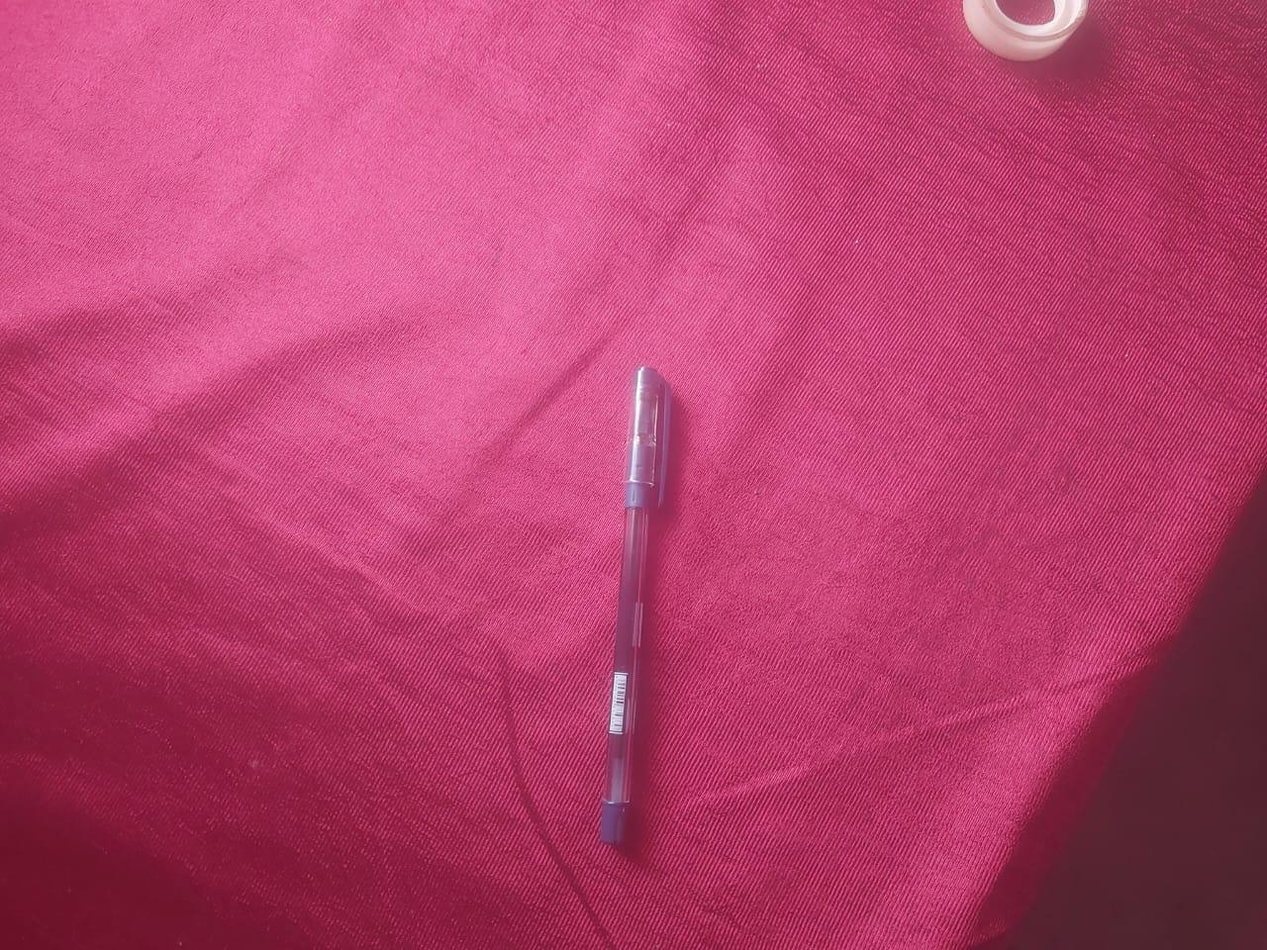pen: (595, 360, 683, 867)
